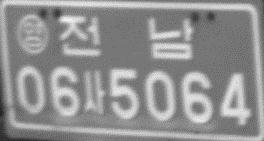0: (143, 70, 177, 122), (15, 65, 47, 115)
4: (218, 72, 252, 126)
5: (109, 69, 140, 119)
6: (179, 70, 214, 123), (48, 65, 81, 117)
사: (82, 71, 106, 116)
영: (15, 13, 50, 57)
전남_D: (57, 15, 196, 60)
